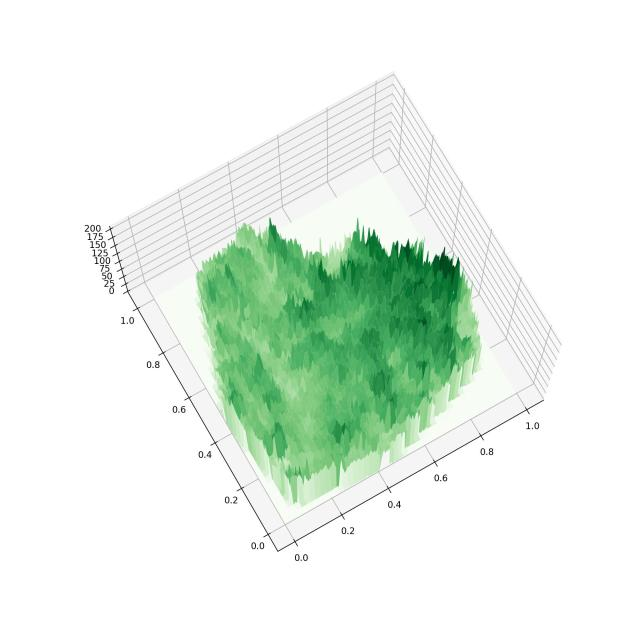spruce: (51, 47, 584, 589)
